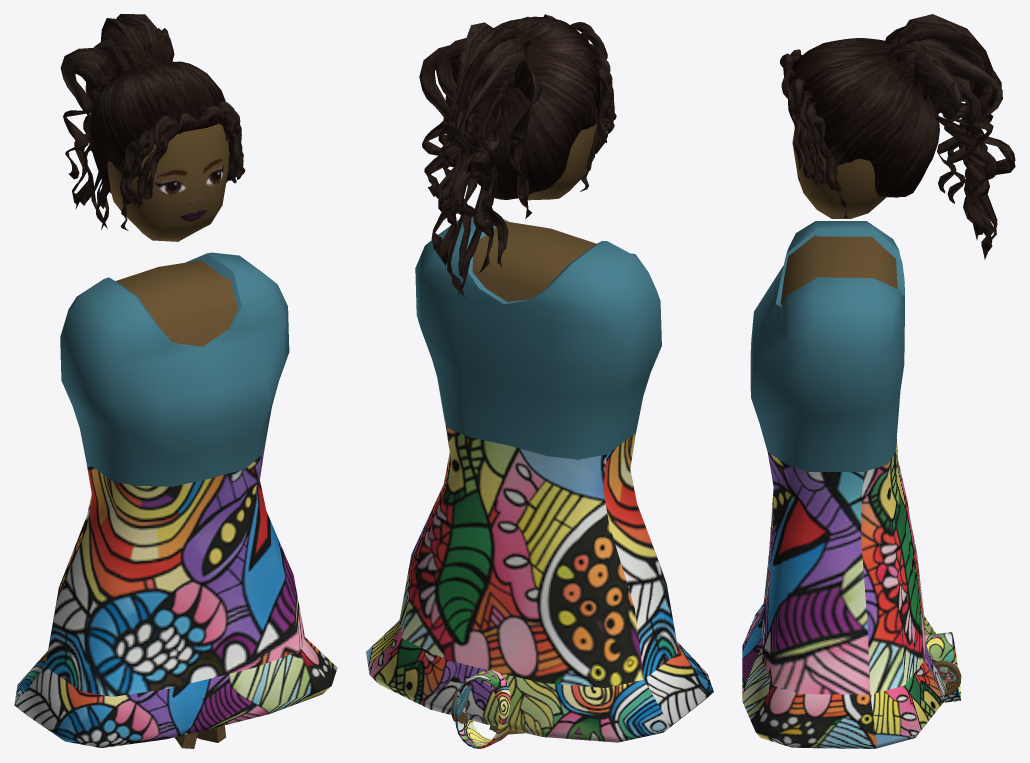
The model's file is Avatar7.fbx.
3 renders of one model, left to right at view 1: azimuth 30°, elevation 25°; view 2: azimuth 150°, elevation 25°; view 3: azimuth 270°, elevation 25°, orthographic. The views are drawn at different scales.
Parts seen in each view (by area): view 1: Body7, Hair7, Head7; view 2: Body7, Hair7, Watch, Head7; view 3: Body7, Hair7, Head7, Watch.
Boxes of the visible parts, box(x1,y1,x2,y2) form: Body7: box(14, 252, 337, 747); Hair7: box(60, 14, 245, 230); Head7: box(107, 123, 228, 241); Body7: box(366, 216, 713, 742); Hair7: box(419, 14, 616, 297); Watch: box(451, 670, 510, 748); Head7: box(528, 108, 596, 200); Body7: box(742, 221, 944, 748); Hair7: box(780, 14, 1015, 259); Head7: box(792, 110, 885, 218); Watch: box(925, 632, 961, 702).
Size of the model in its own units: 51.14 by 116 by 41.46.
3 materials, 2 textured.
